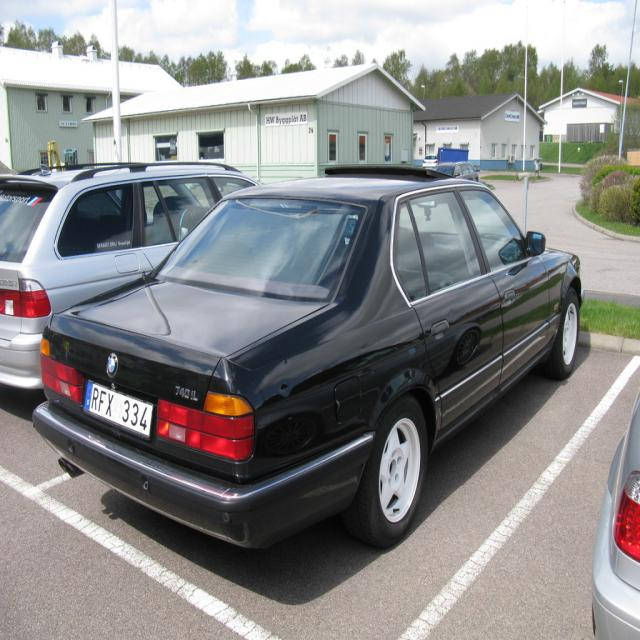car: (30, 172, 581, 548)
